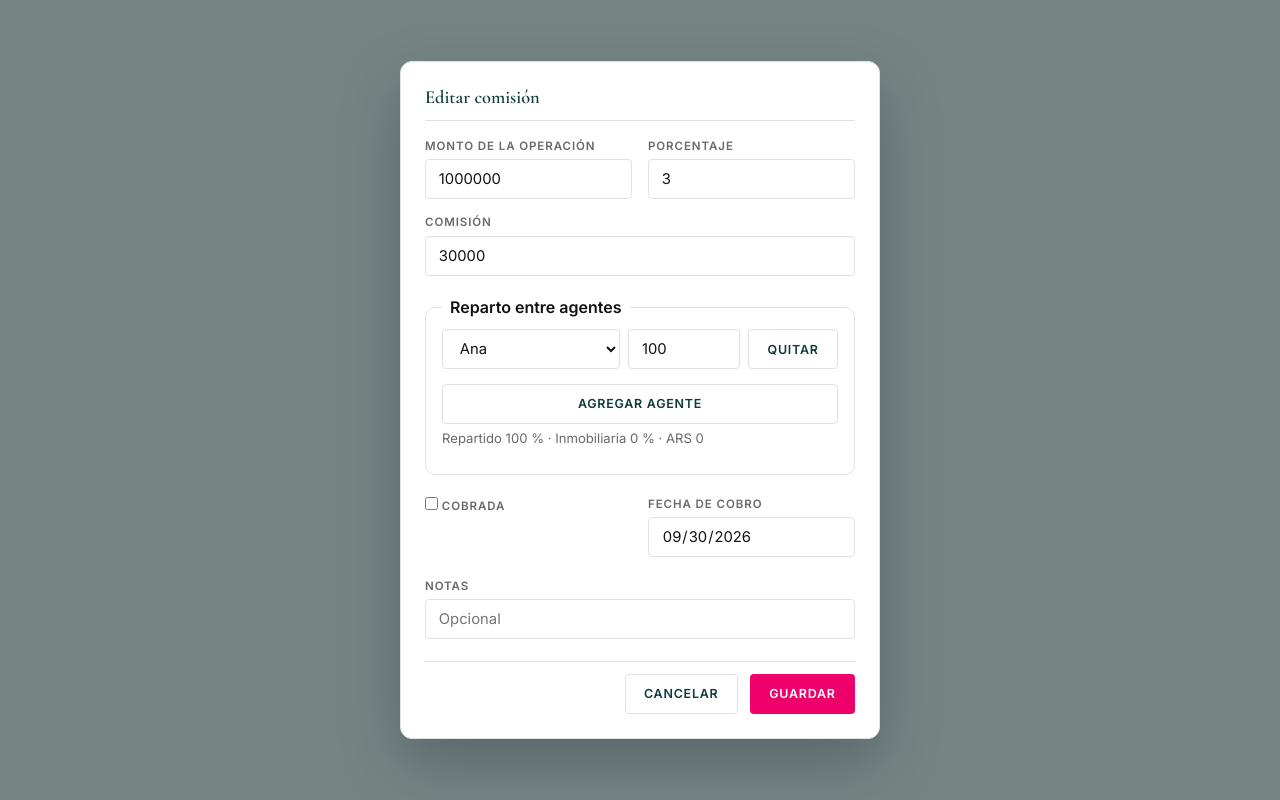
Scenario: bloquea guardar si el reparto supera el 100 %
The width and height of the screenshot is (1280, 800).
Click the button "Agregar agente" at (640, 404), box left=442, top=384, right=838, bottom=424
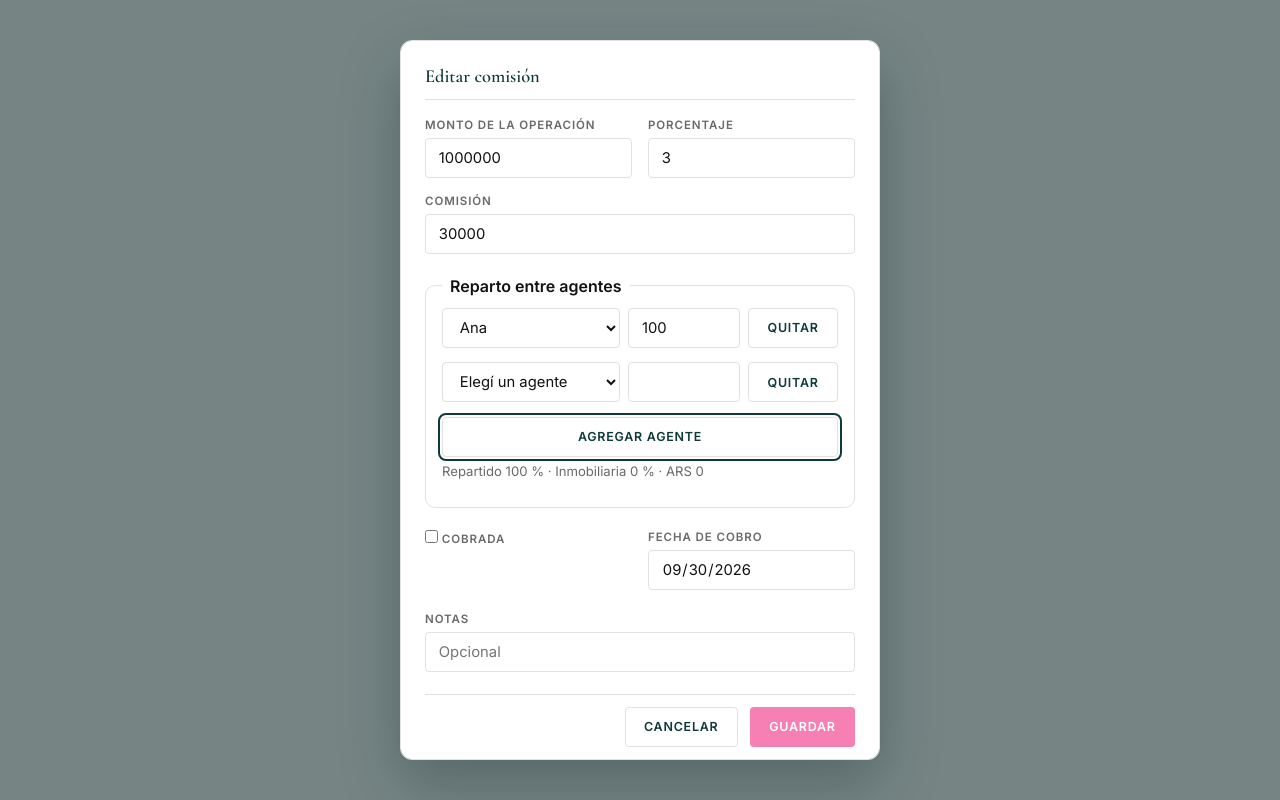
Select "Juan" in the 2nd dropdown named "Agente" at (531, 382), box left=442, top=362, right=620, bottom=402
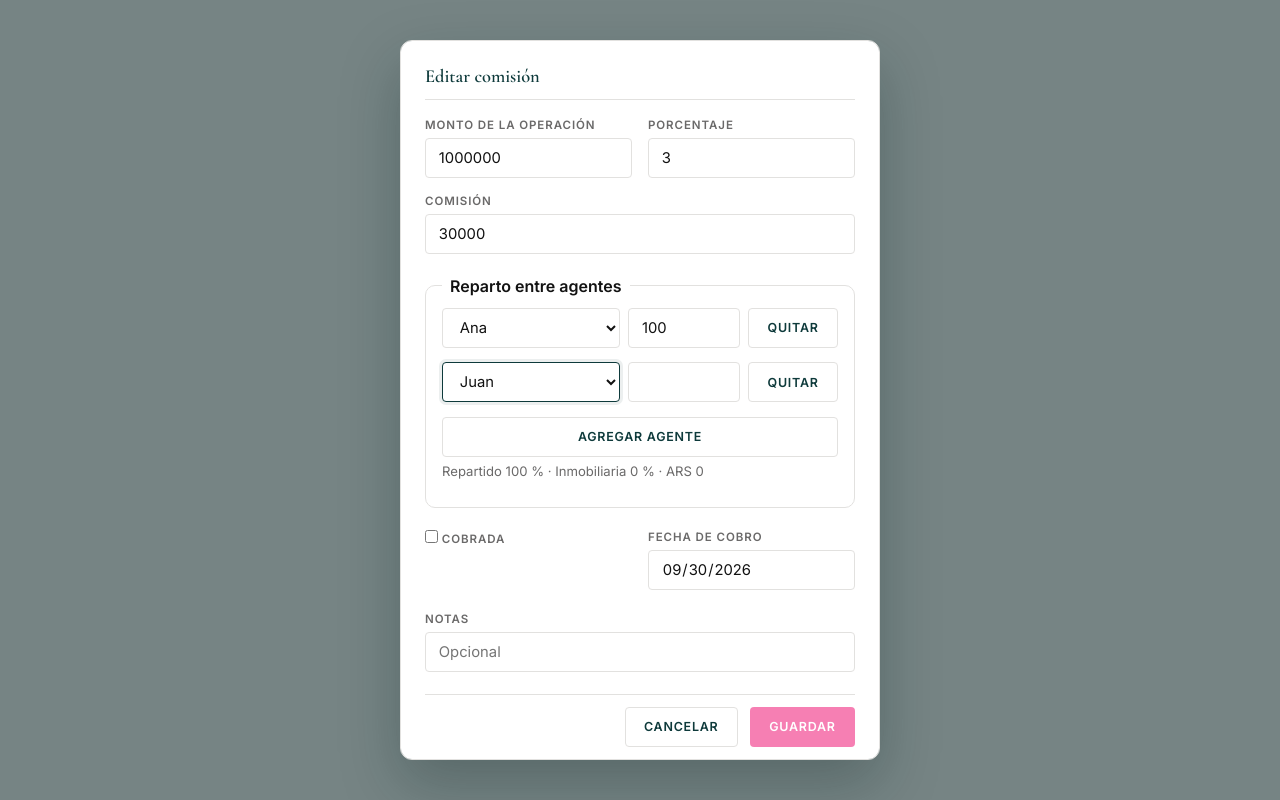
Type "10" into the 2nd number field named "% del agente" at (684, 382), box left=628, top=362, right=740, bottom=402
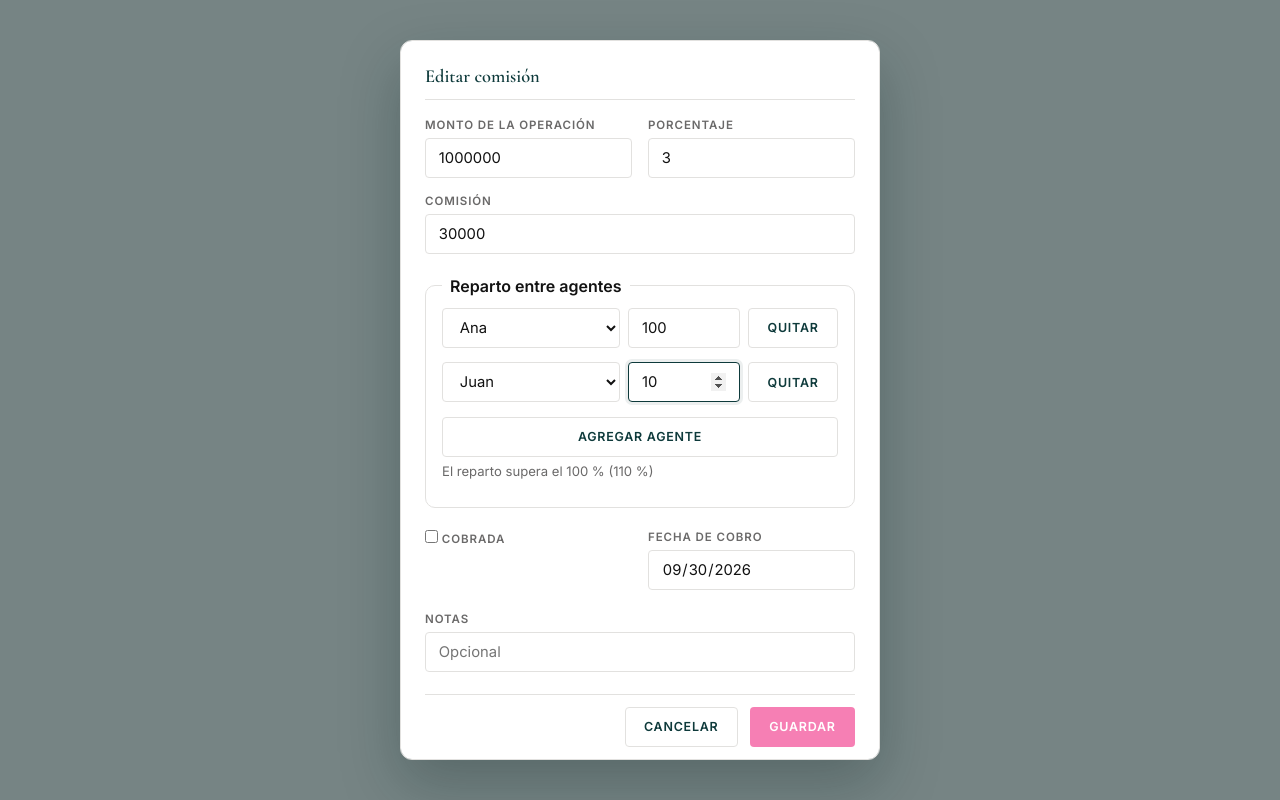
Result: the button "Guardar" is disabled at left=750, top=707, right=855, bottom=747
Result: the text "El reparto supera el 100 % (110 %)" is shown at left=442, top=463, right=654, bottom=479
